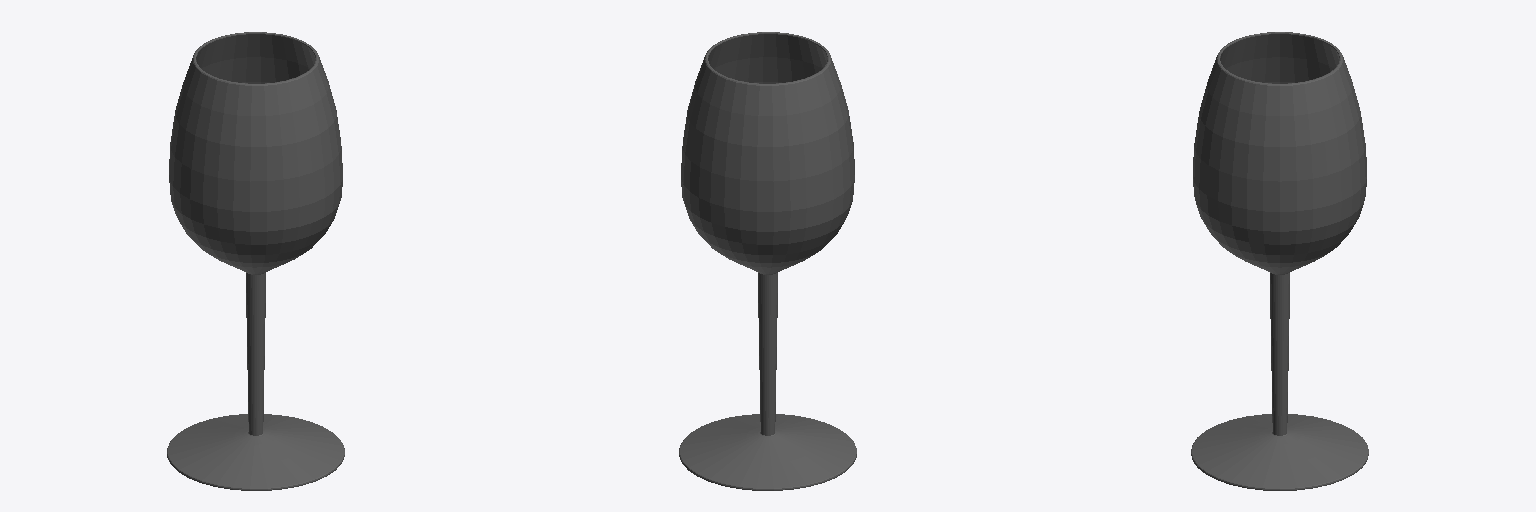
3 renders of one model, left to right at view 1: azimuth 30°, elevation 25°; view 2: azimuth 150°, elevation 25°; view 3: azimuth 270°, elevation 25°, orthographic.
Visible parts, largest first — view 1: Object_1; view 2: Object_1; view 3: Object_1.
Boxes of the visible parts, <box> form: Object_1: <box>167,32,344,490</box>; Object_1: <box>679,32,856,490</box>; Object_1: <box>1191,32,1368,490</box>.
Size of the model in its own units: 1.96 by 4.8 by 1.96.
2 materials, 1 textured.